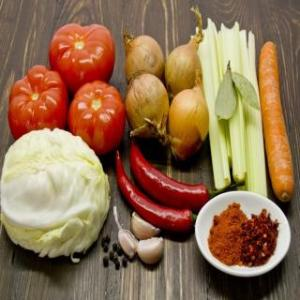cabbage: (0, 127, 110, 269)
carrot: (255, 38, 299, 204)
garlic: (114, 211, 164, 265)
onion: (165, 70, 211, 166), (121, 70, 173, 148), (118, 24, 168, 92), (162, 32, 206, 96)
tomato: (3, 63, 73, 141), (45, 18, 118, 92), (66, 81, 130, 157)
